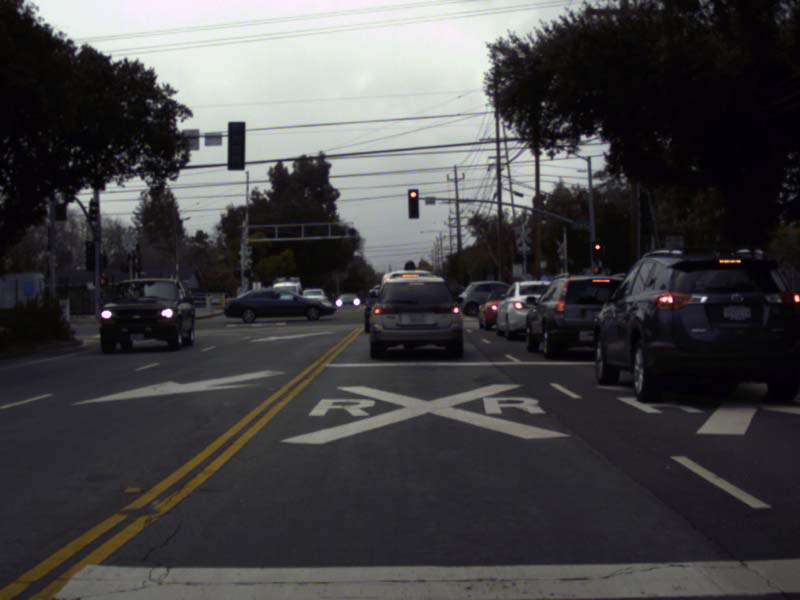Red: (407, 188, 419, 219), (592, 242, 602, 261)
